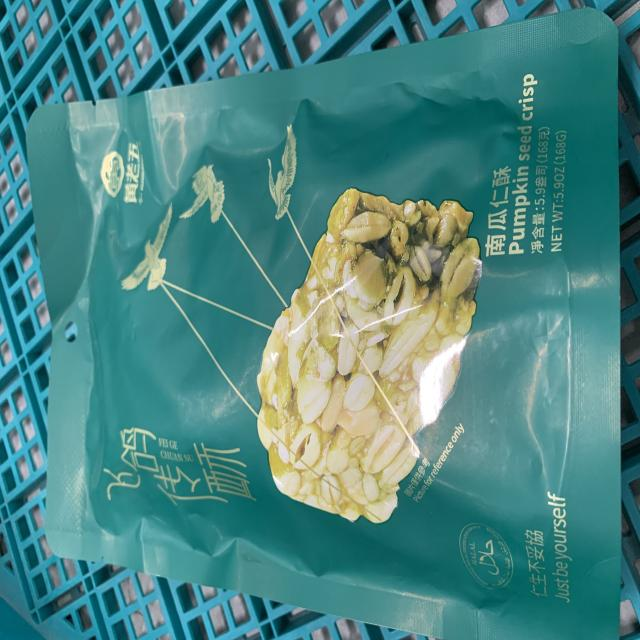object_name: (30, 87, 618, 628)
